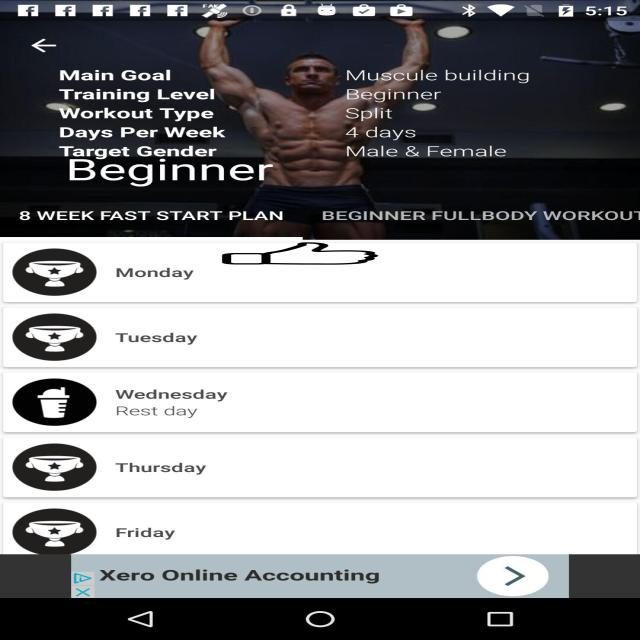privacy zuckering: (220, 242, 380, 265)
